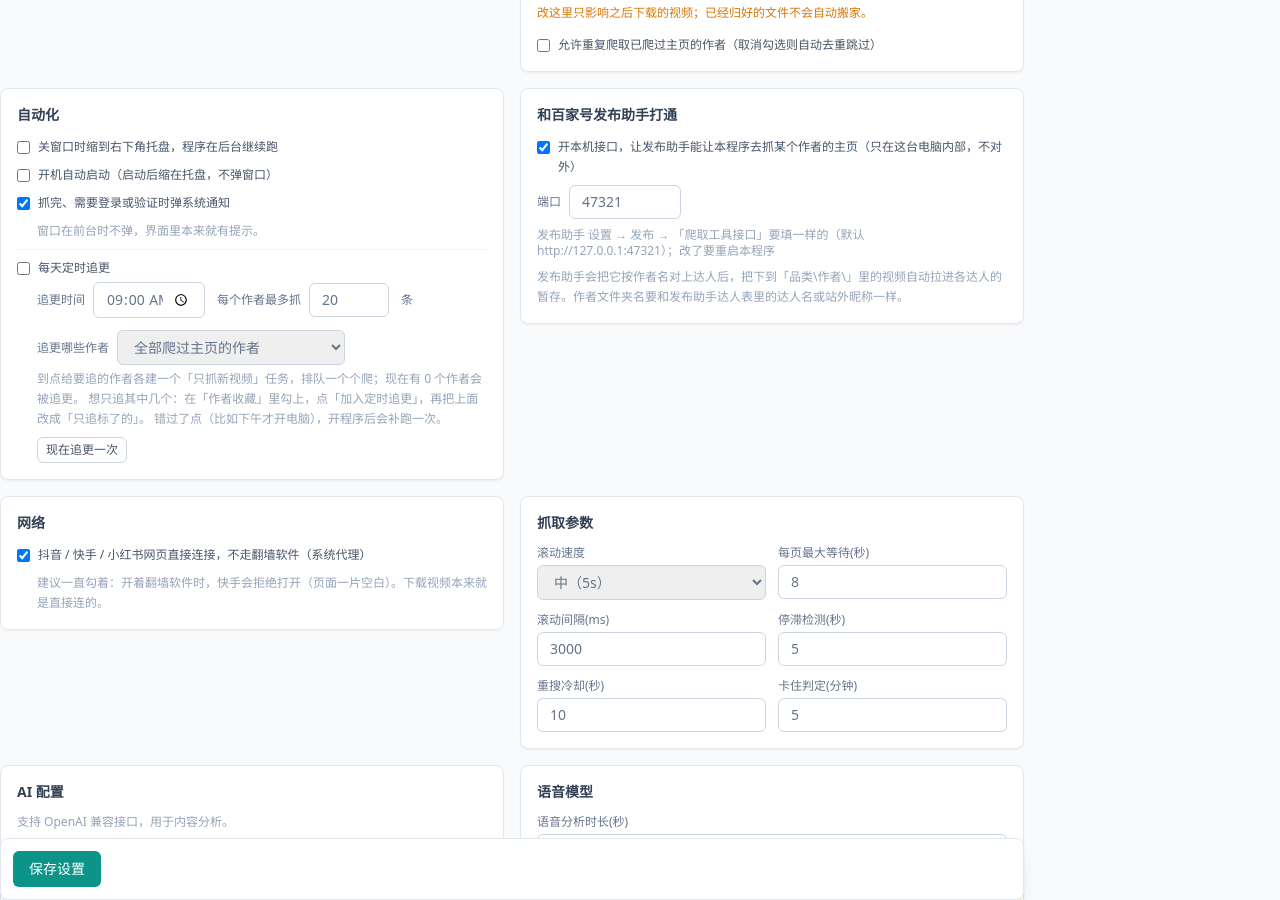
Test: 设置 · 自动化 › 「现在追更一次」：建好了说建了几个；没有爬过主页的作者也说清楚
(page scrolled)
Click the button "现在追更一次" at (82,450), box x1=37 y1=437 x2=127 y2=463
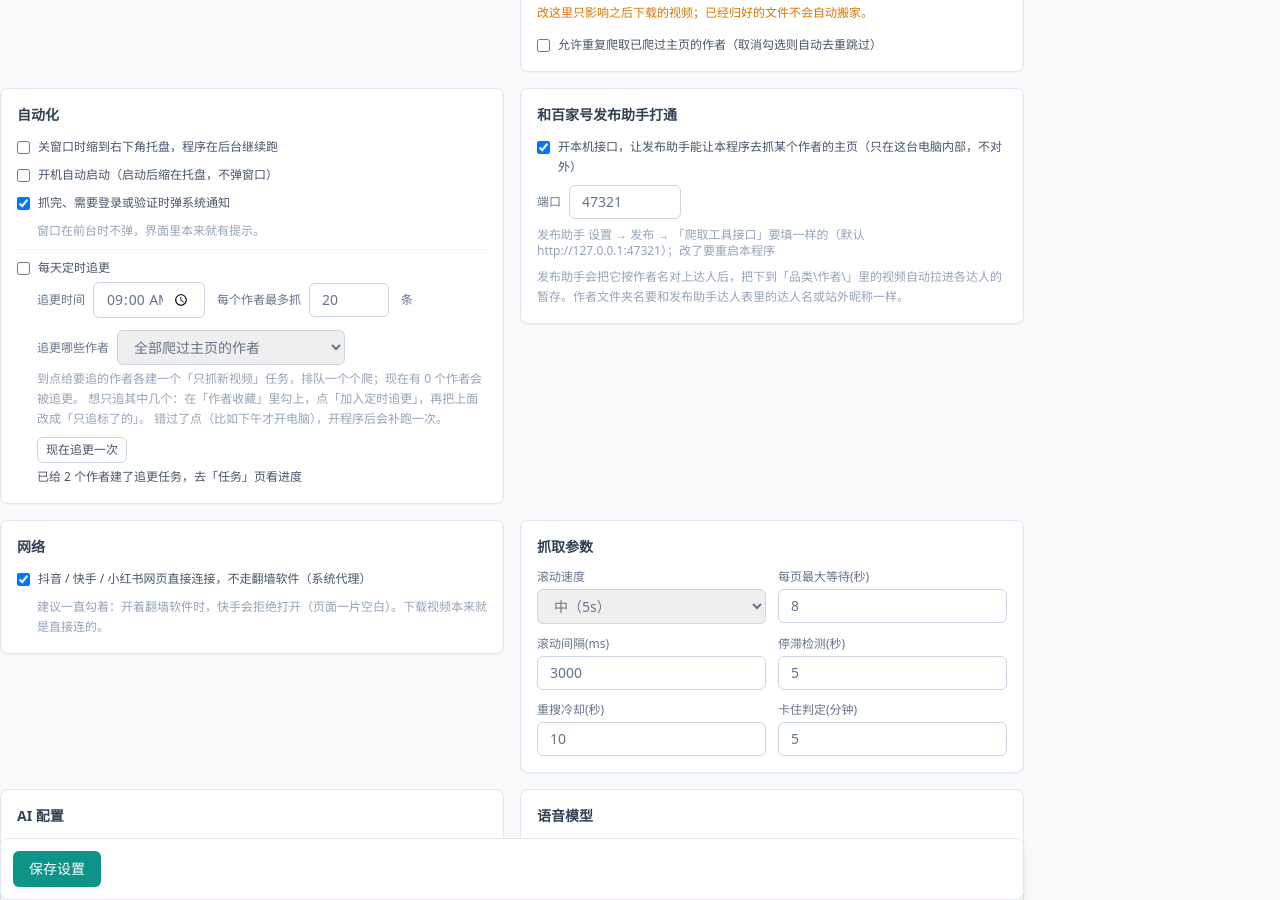
Check: the text "已给 2 个作者建了追更任务，去「任务」页看进度" is shown, box x1=37 y1=468 x2=302 y2=485
Click the button "现在追更一次" at (82,450), box x1=37 y1=437 x2=127 y2=463
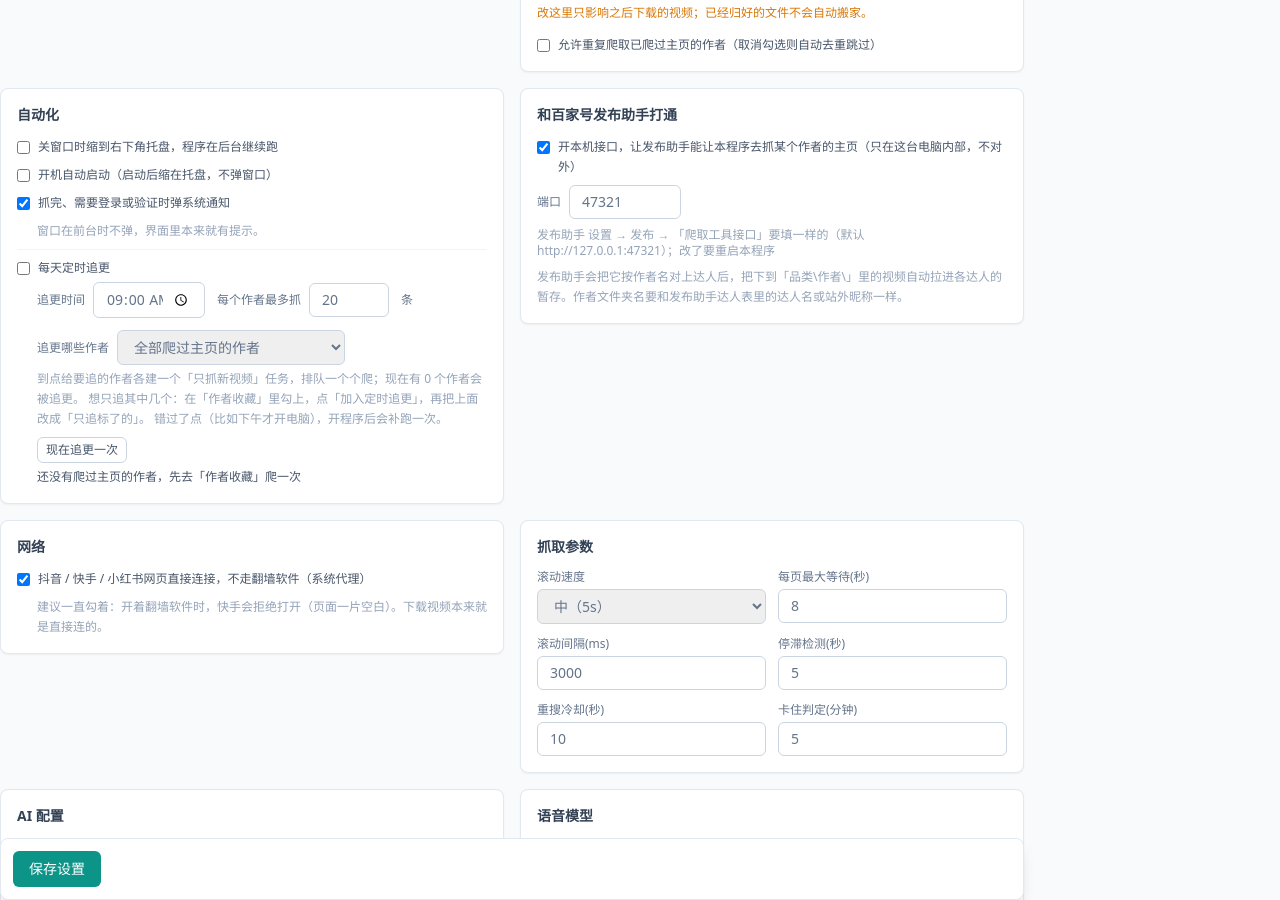
Check: the text "还没有爬过主页的作者，先去「作者收藏」爬一次" is shown, box x1=37 y1=468 x2=301 y2=485
